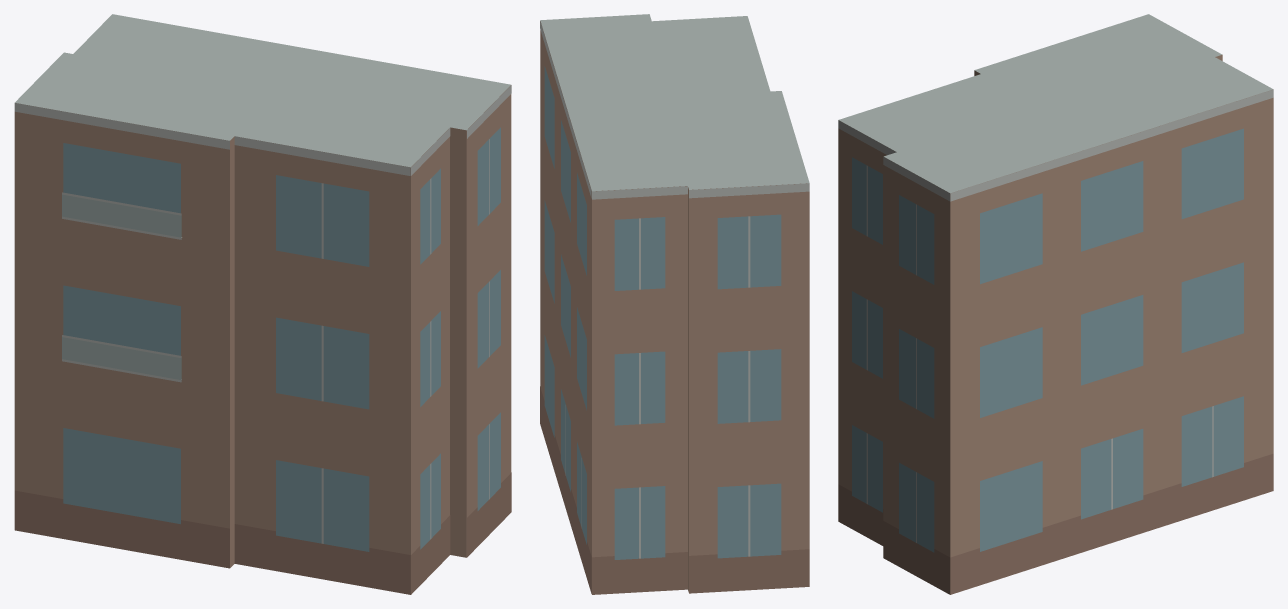
Rendered from survey-upis-32621618.glb.
3 views of the same model, side by side, from view 1: azimuth 30°, elevation 25°; view 2: azimuth 150°, elevation 25°; view 3: azimuth 270°, elevation 25° (orthographic). The views are drawn at different scales.
Visible parts, largest first — view 1: survey-upis-32621618.tmp; view 2: survey-upis-32621618.tmp; view 3: survey-upis-32621618.tmp.
Part boxes in pixels (x1,y1,x2,y2): survey-upis-32621618.tmp: (14,14,511,594); survey-upis-32621618.tmp: (540,14,809,594); survey-upis-32621618.tmp: (838,14,1273,594).
Size of the model in its own units: 11.26 by 11.75 by 11.55.
